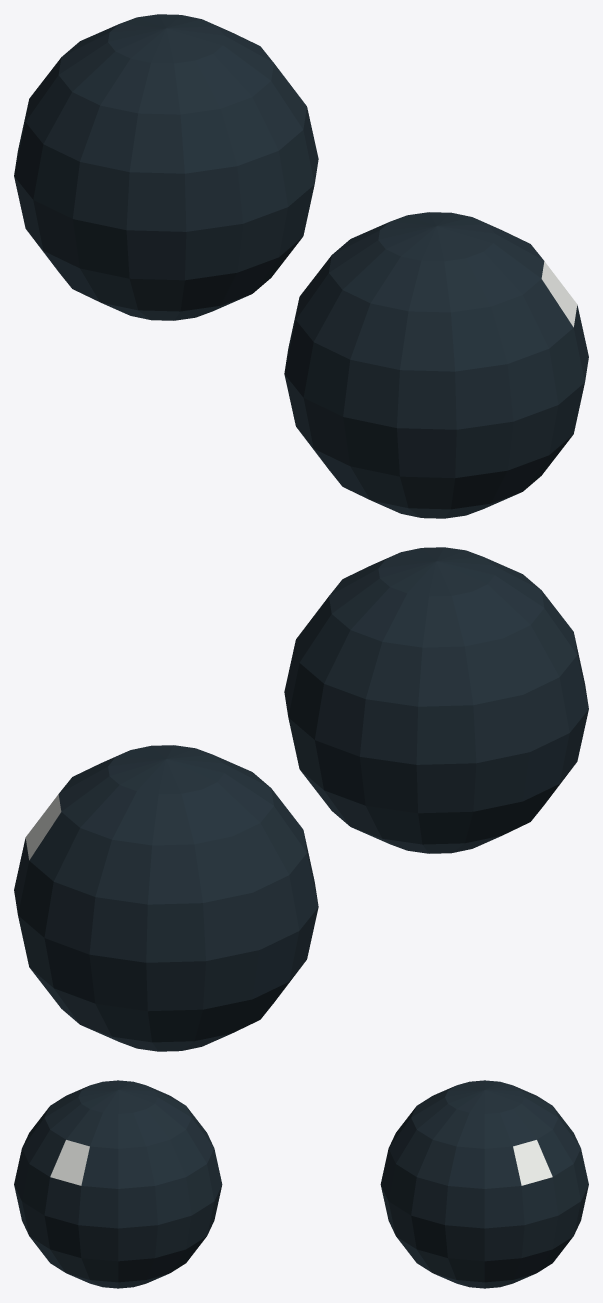
Rendered from graysealeyes.fbx.
3 renders of one model, top to bottom at view 1: azimuth 30°, elevation 25°; view 2: azimuth 150°, elevation 25°; view 3: azimuth 270°, elevation 25°, orthographic. The views are drawn at different scales.
Parts seen in each view (by area): view 1: eyes; view 2: eyes; view 3: eyes.
Part boxes in pixels (box(x1,y1,x2,y2)): eyes: box(14, 14, 588, 518); eyes: box(14, 547, 588, 1051); eyes: box(14, 1080, 588, 1288).
Size of the model in its own units: 30.45 by 30.45 by 84.03.
